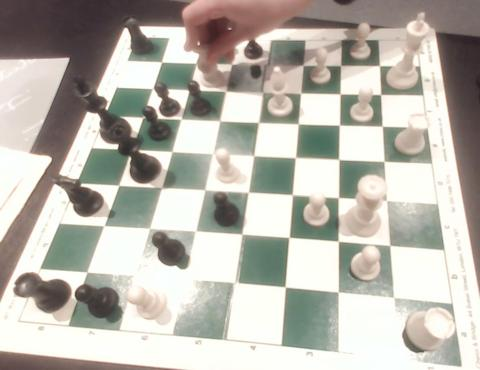xcorner: (127, 271, 142, 286), (334, 156, 349, 171), (221, 58, 236, 73), (258, 59, 273, 74), (228, 280, 242, 295), (389, 294, 403, 309), (94, 222, 109, 236), (186, 229, 201, 243), (234, 232, 249, 246), (283, 236, 298, 250), (240, 190, 255, 204), (203, 149, 217, 164), (289, 154, 304, 168), (131, 112, 145, 127), (250, 118, 265, 132), (334, 122, 349, 136), (378, 123, 392, 138), (178, 84, 192, 99), (149, 56, 164, 70), (185, 57, 199, 72), (296, 60, 310, 75), (79, 267, 93, 281), (177, 276, 191, 290), (280, 285, 294, 299), (334, 290, 348, 304), (140, 225, 154, 239), (334, 240, 348, 254), (386, 244, 400, 258), (108, 181, 122, 195), (151, 184, 165, 198), (195, 187, 209, 201), (287, 193, 301, 207), (334, 196, 348, 210), (383, 199, 397, 213), (120, 145, 134, 159), (161, 147, 175, 161), (246, 152, 260, 166), (380, 159, 394, 173), (170, 114, 184, 128), (210, 116, 224, 130), (292, 120, 306, 134), (141, 83, 155, 97), (216, 86, 230, 100), (255, 87, 269, 101), (294, 89, 308, 103), (335, 90, 349, 104), (376, 92, 390, 106), (335, 62, 349, 76), (374, 63, 388, 77)
